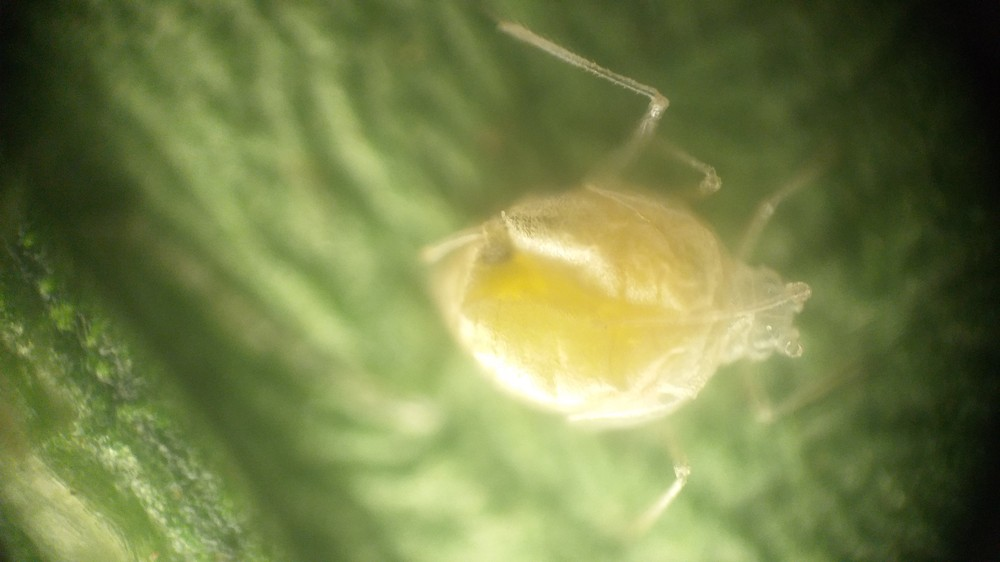Pulgon: (405, 29, 886, 525)
